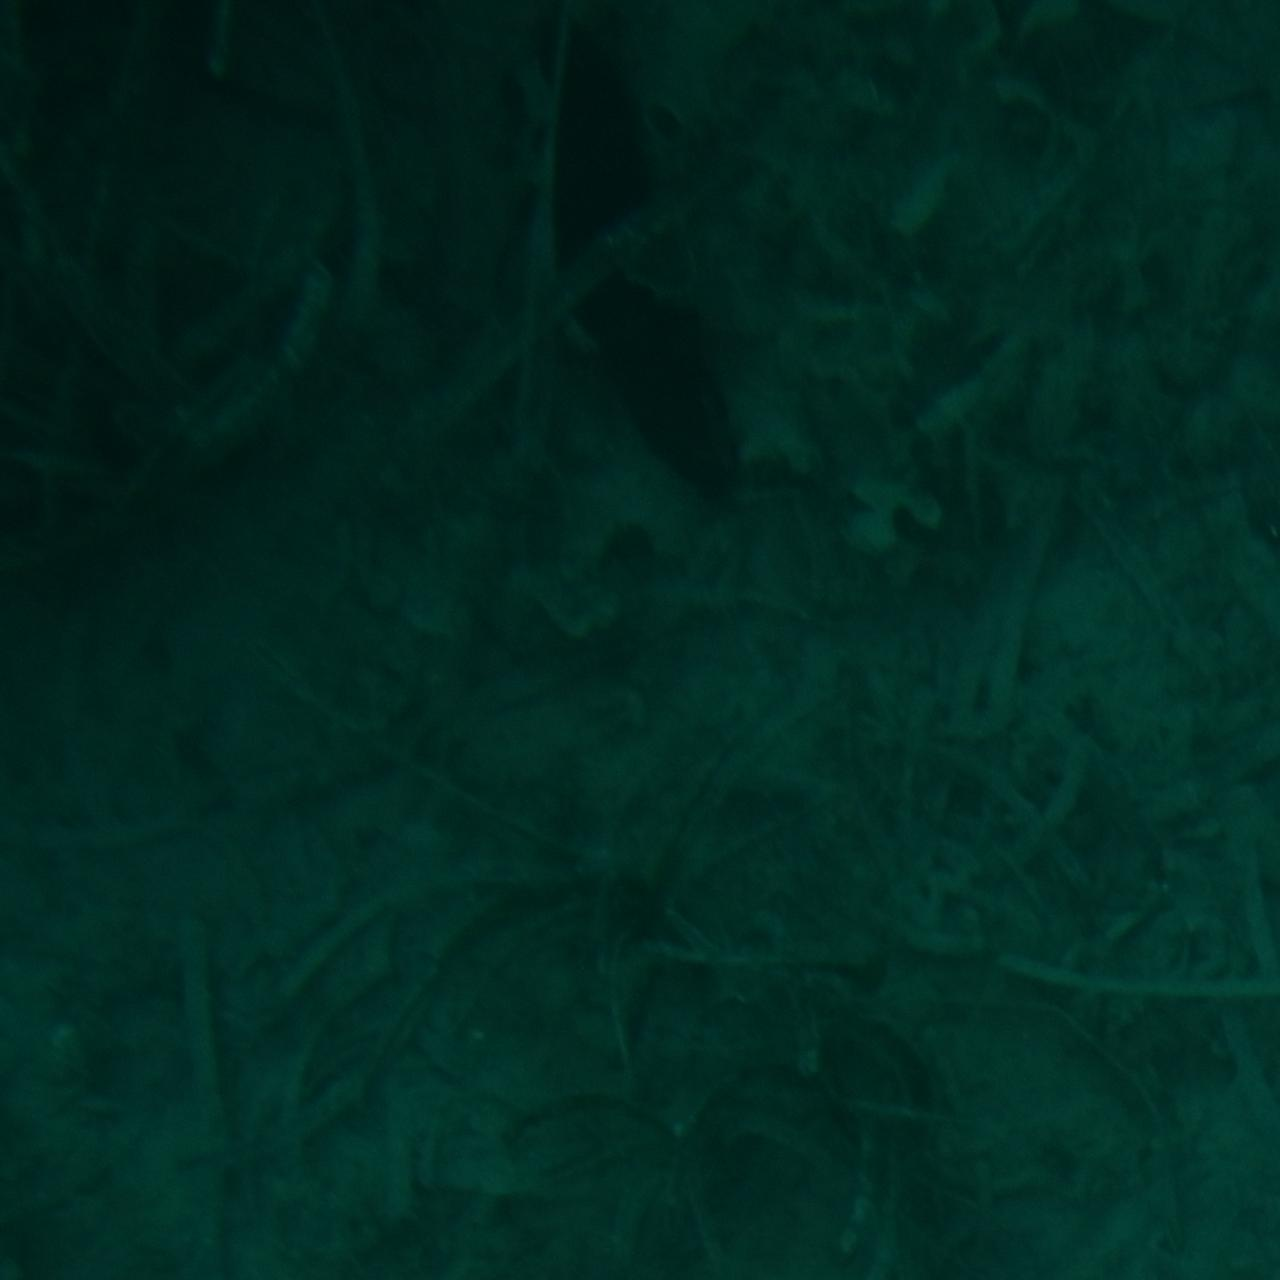Holothuria tubulosa: (534, 0, 746, 514)
